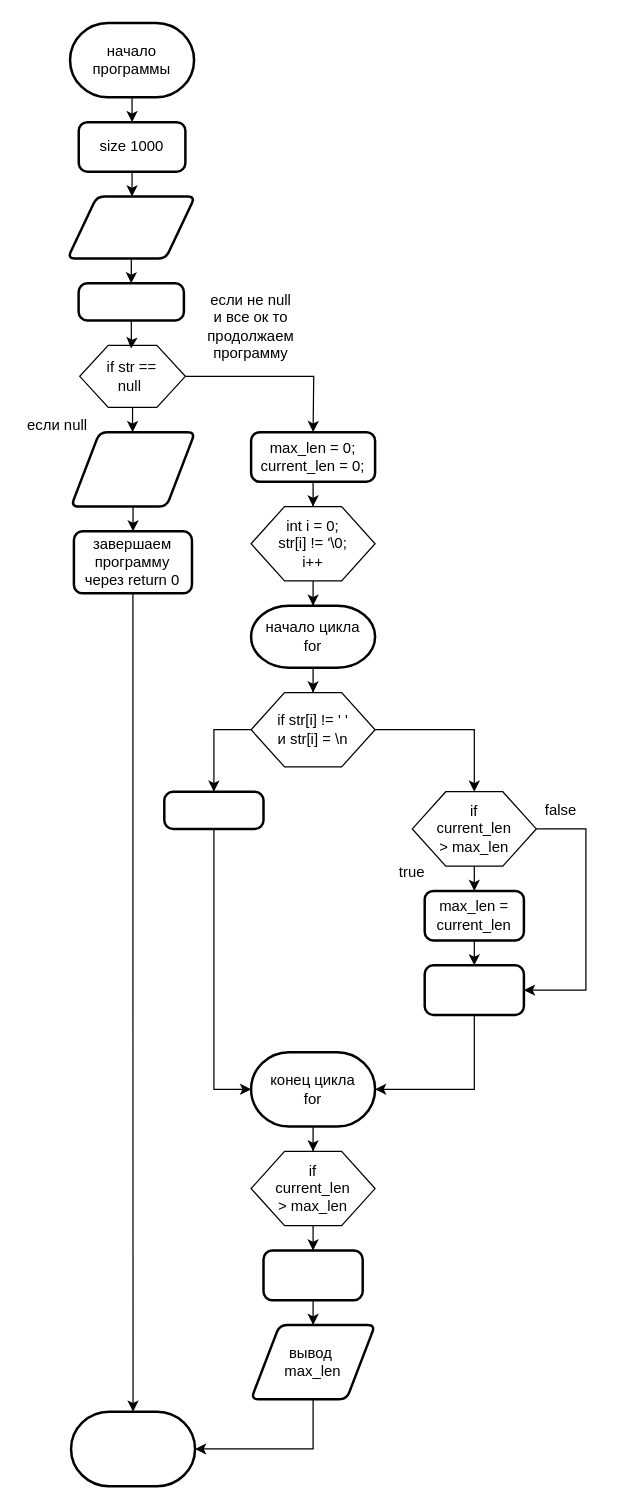
Image size: 620x1508. Some labels were removed from this diagram. The shapes that lost their labels are listed below. From the top down, each one's centre as x and y in pixels, then its label:
pixel 131 227: вывод " введите строку"
pixel 131 301: char str[size]
pixel 132 468: вывод "ошибка ввода!"
pixel 213 810: current_len++
pixel 474 989: current_len = 0;
pixel 312 1275: max_len = current_len;
pixel 132 1448: конец программы
